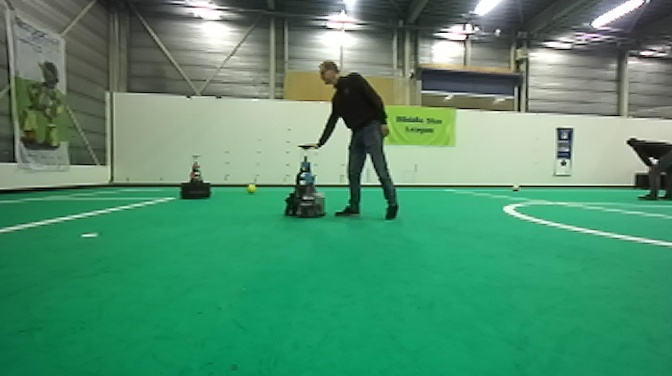ball: (244, 181, 258, 194), (509, 181, 521, 194)
human: (307, 58, 400, 222), (624, 134, 672, 202)
robot: (282, 143, 330, 220), (177, 153, 215, 201)
